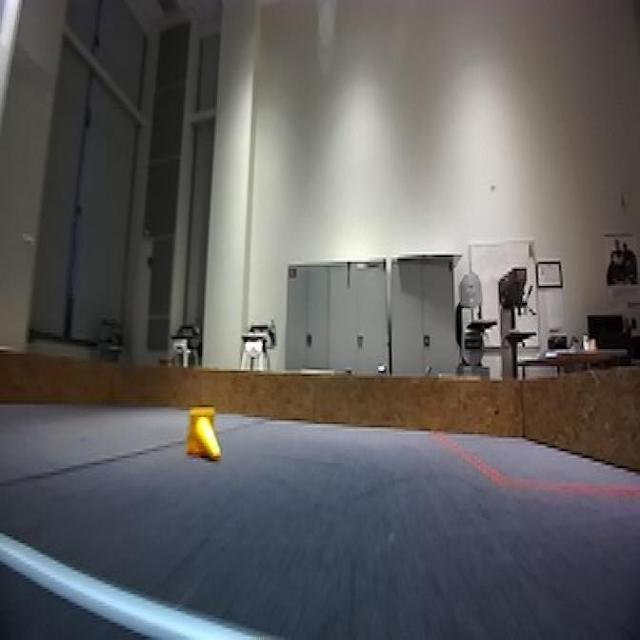frc_cone: (183, 400, 223, 465)
